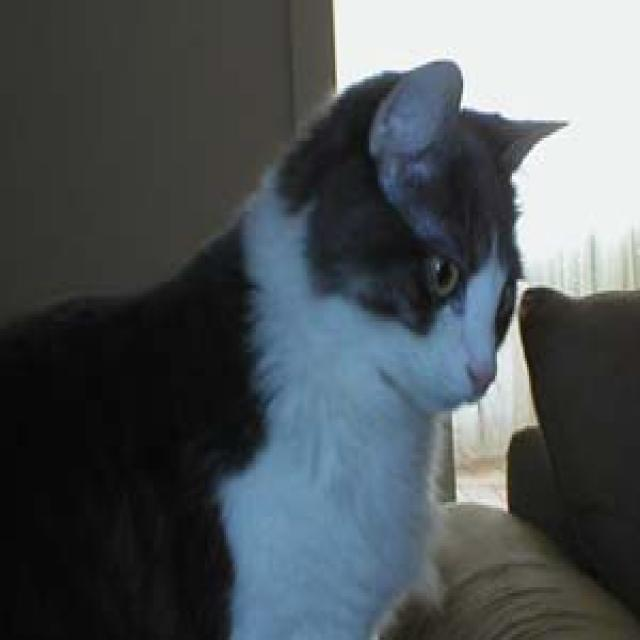Maine_Coon: (272, 55, 569, 418)
